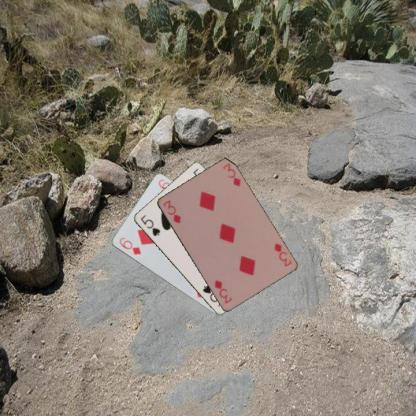3d: (160, 197, 182, 225), (271, 240, 292, 268)
5s: (138, 212, 161, 238)
6d: (116, 235, 142, 256)
